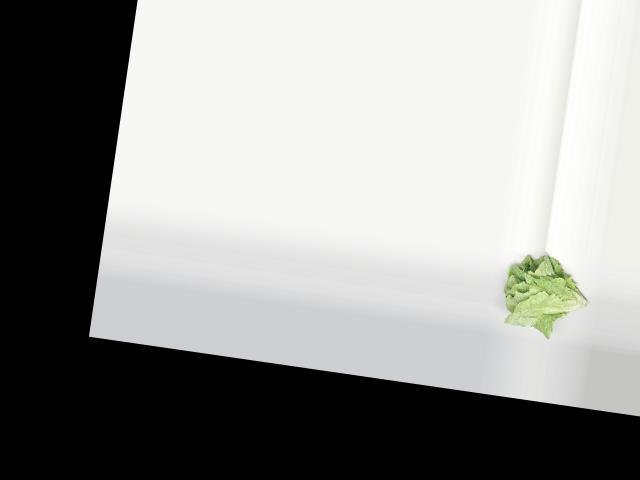lettuce: (494, 250, 597, 336)
